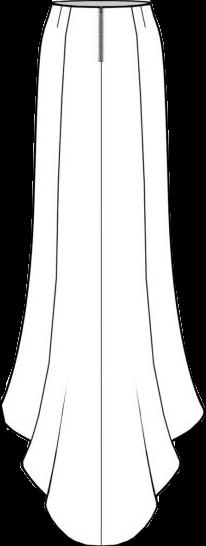Hemline: (0, 400, 205, 545)
Waistline: (50, 0, 151, 11)
